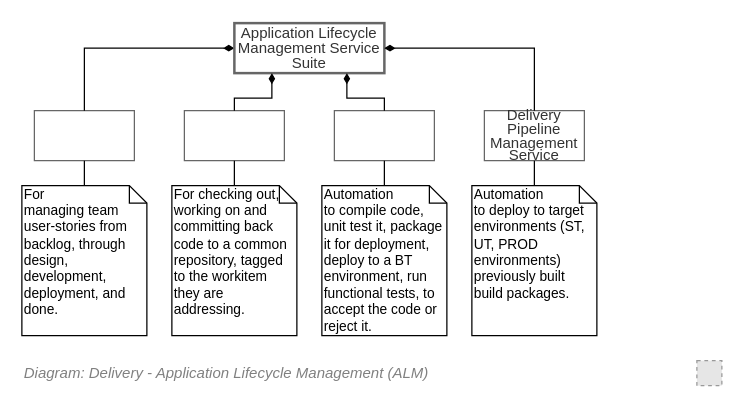
This 744x408 diagram has some shape labels left out. Grey dashed boxes stand in for pictures. Here are the shapes that lost their labels. From the top down, the box of each, then its label:
(33, 109, 134, 161): Work Item Management Service
(183, 109, 284, 161): Code Management Service
(333, 109, 434, 161): Build Pipeline Management Service
